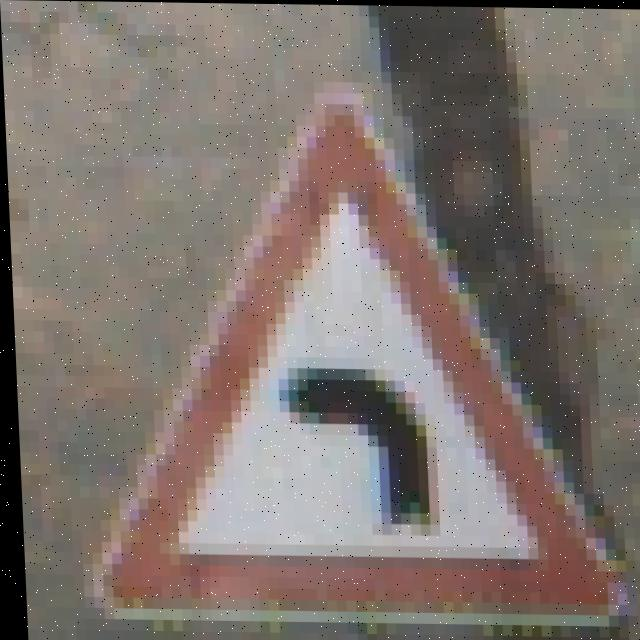left_turn: (104, 204, 638, 640)
